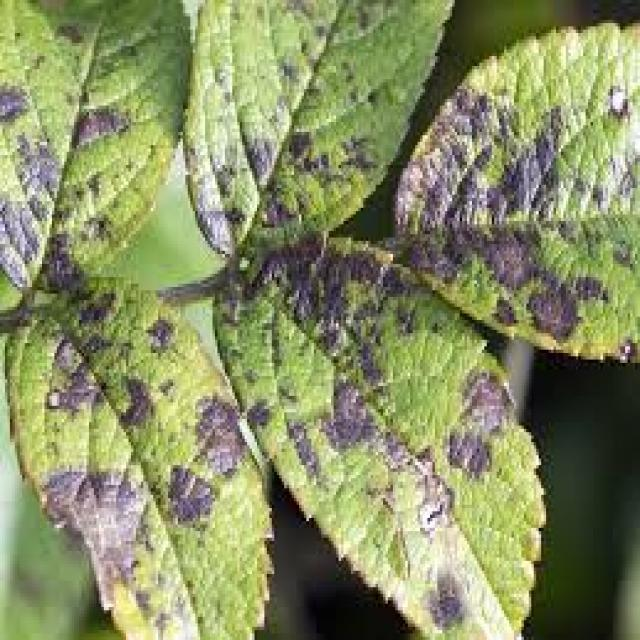black-spot: (197, 183, 418, 432), (36, 391, 235, 615), (458, 113, 640, 352)
